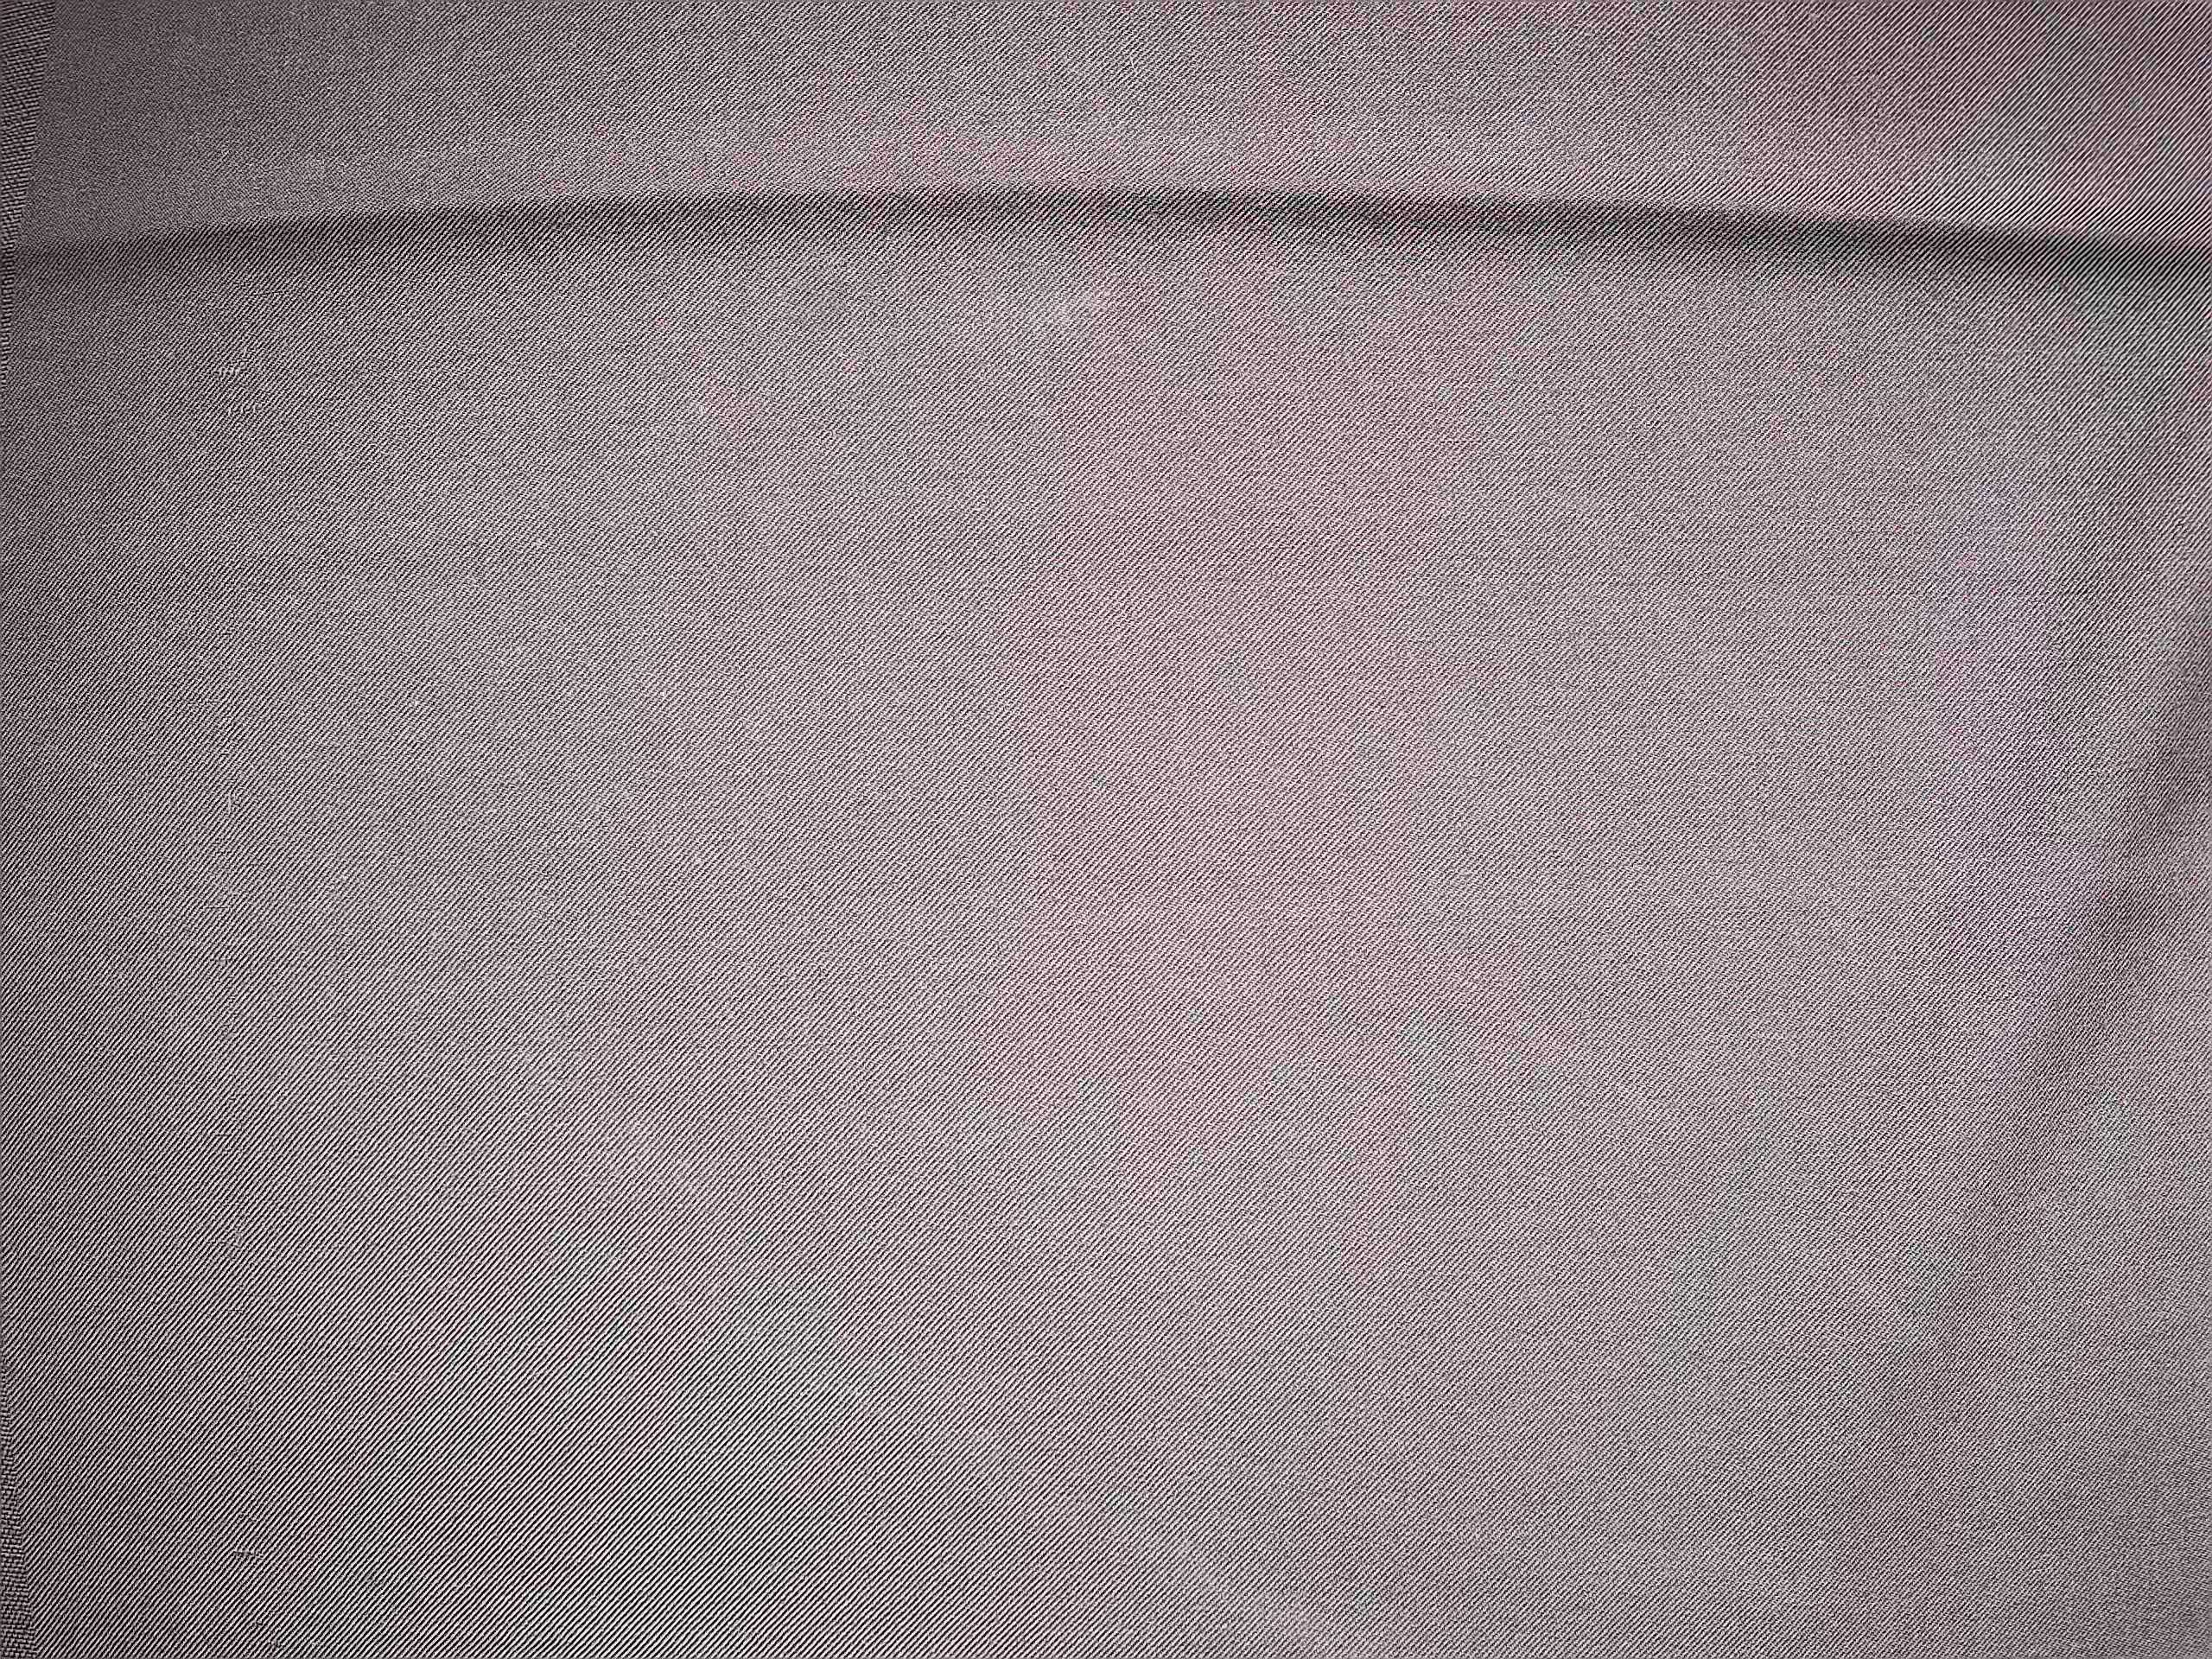jumps: (206, 340, 280, 425), (1042, 272, 1125, 342)
